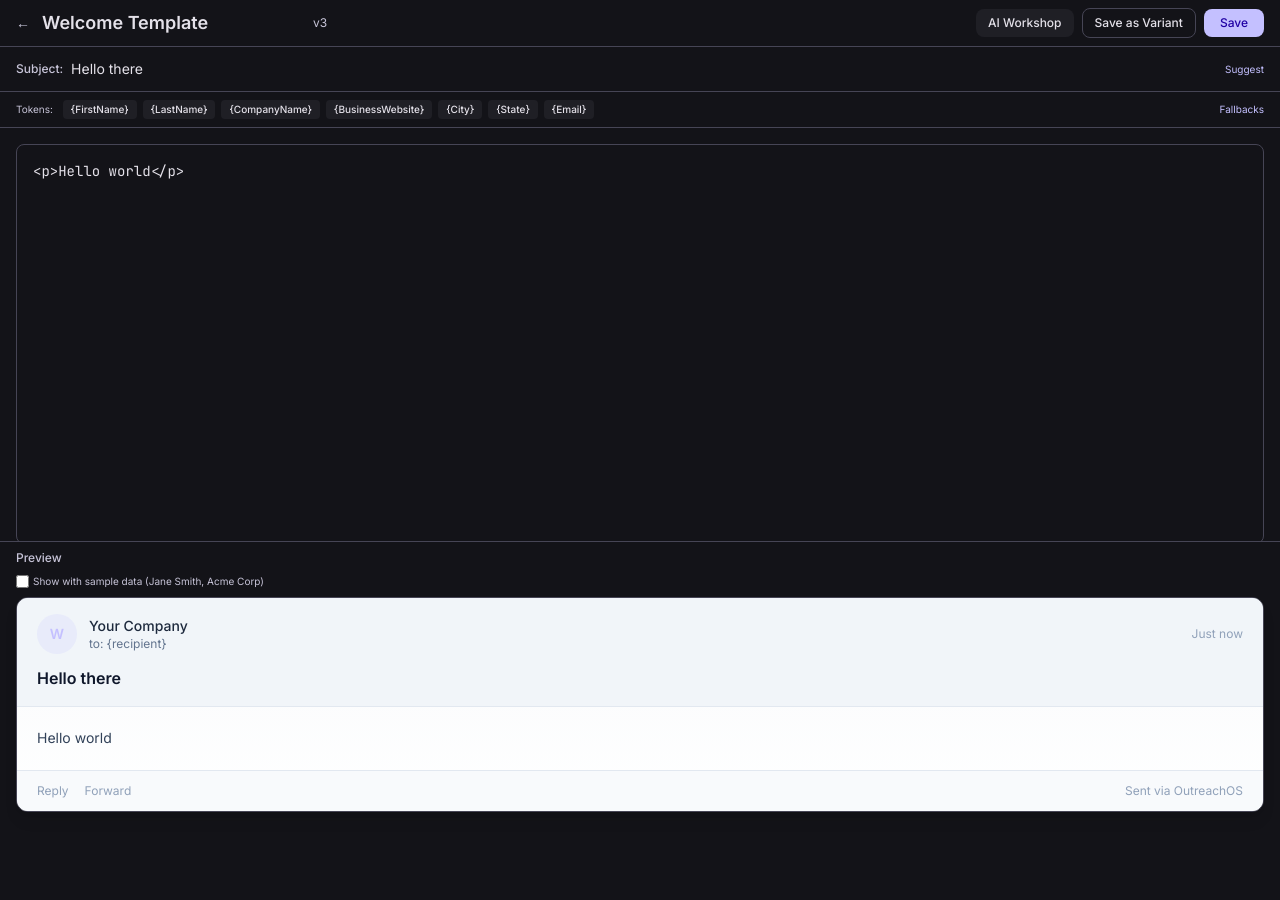
it: TemplateEditorPage › falls back to line parsing for subject suggestions
What coordinates should you click on to do the following:
click the button "Suggest"
I would click on:
 (1244, 69)
Its box is [1225, 62, 1264, 76].
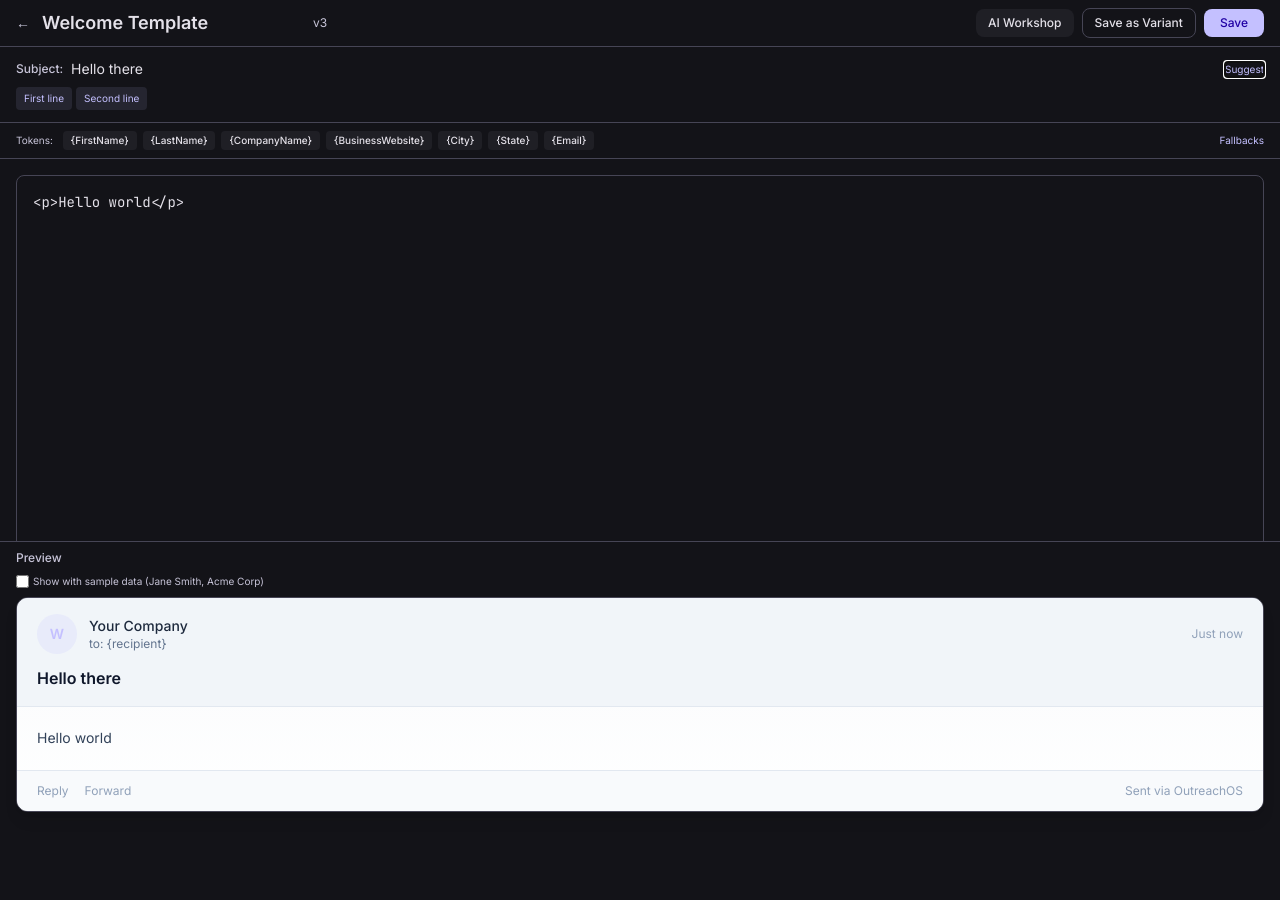
expect the button "First line" is shown: met, box [16, 87, 72, 110]
expect the button "Second line" is shown: met, box [76, 87, 147, 110]
